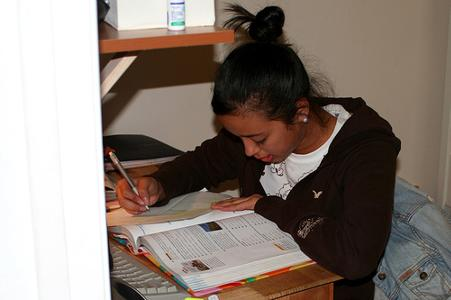person: (109, 6, 399, 299)
